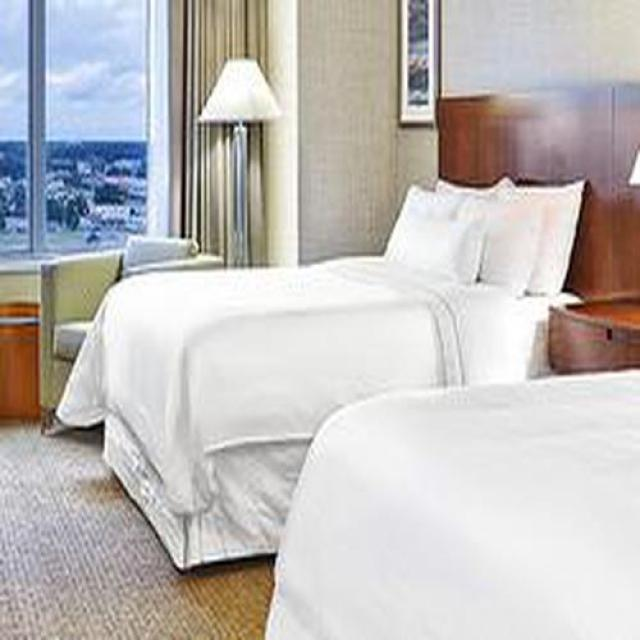bed: (51, 183, 586, 573)
